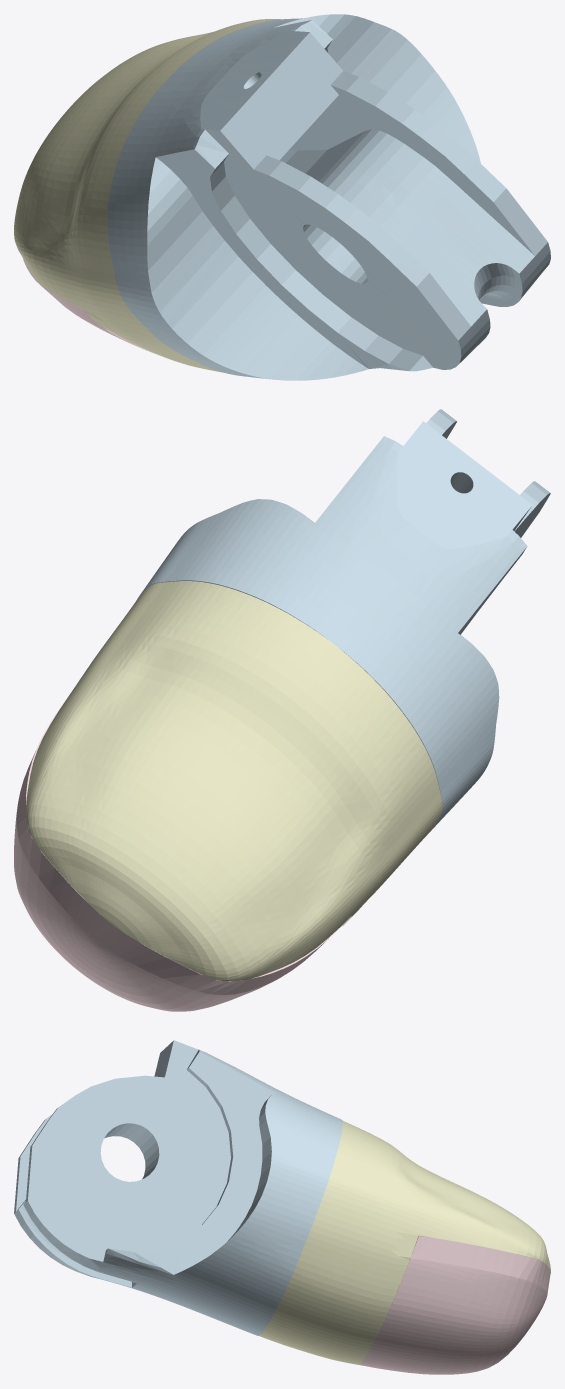
The model's file is i02_rightHand_ringFingerTip_visual.obj.full.glb.
3 views of the same model, one above another, from view 1: azimuth 30°, elevation 25°; view 2: azimuth 150°, elevation 25°; view 3: azimuth 270°, elevation 25° (orthographic). The views are drawn at different scales.
Size of the model in its own units: 0.1603 by 0.2072 by 0.326.
